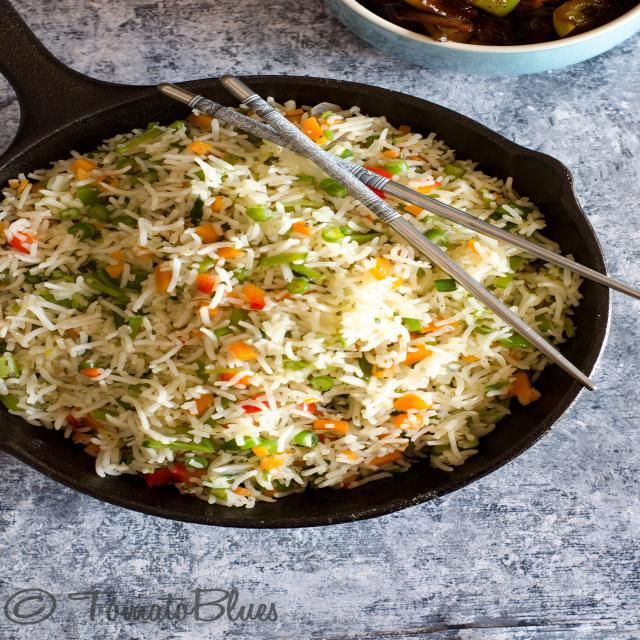Nasi Goreng: (1, 97, 588, 509)
